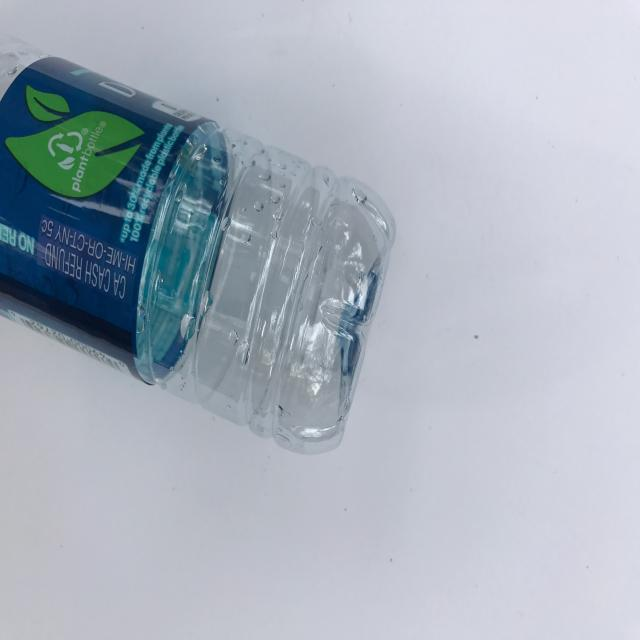plastic: (1, 31, 398, 462)
